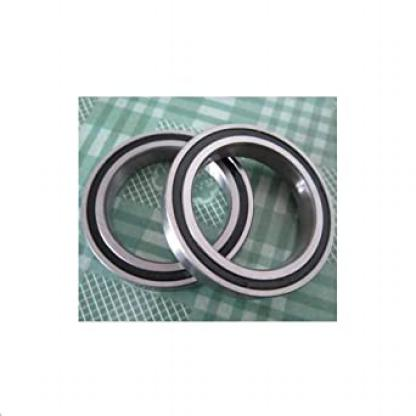FOD: (165, 117, 339, 298), (82, 131, 253, 295)
